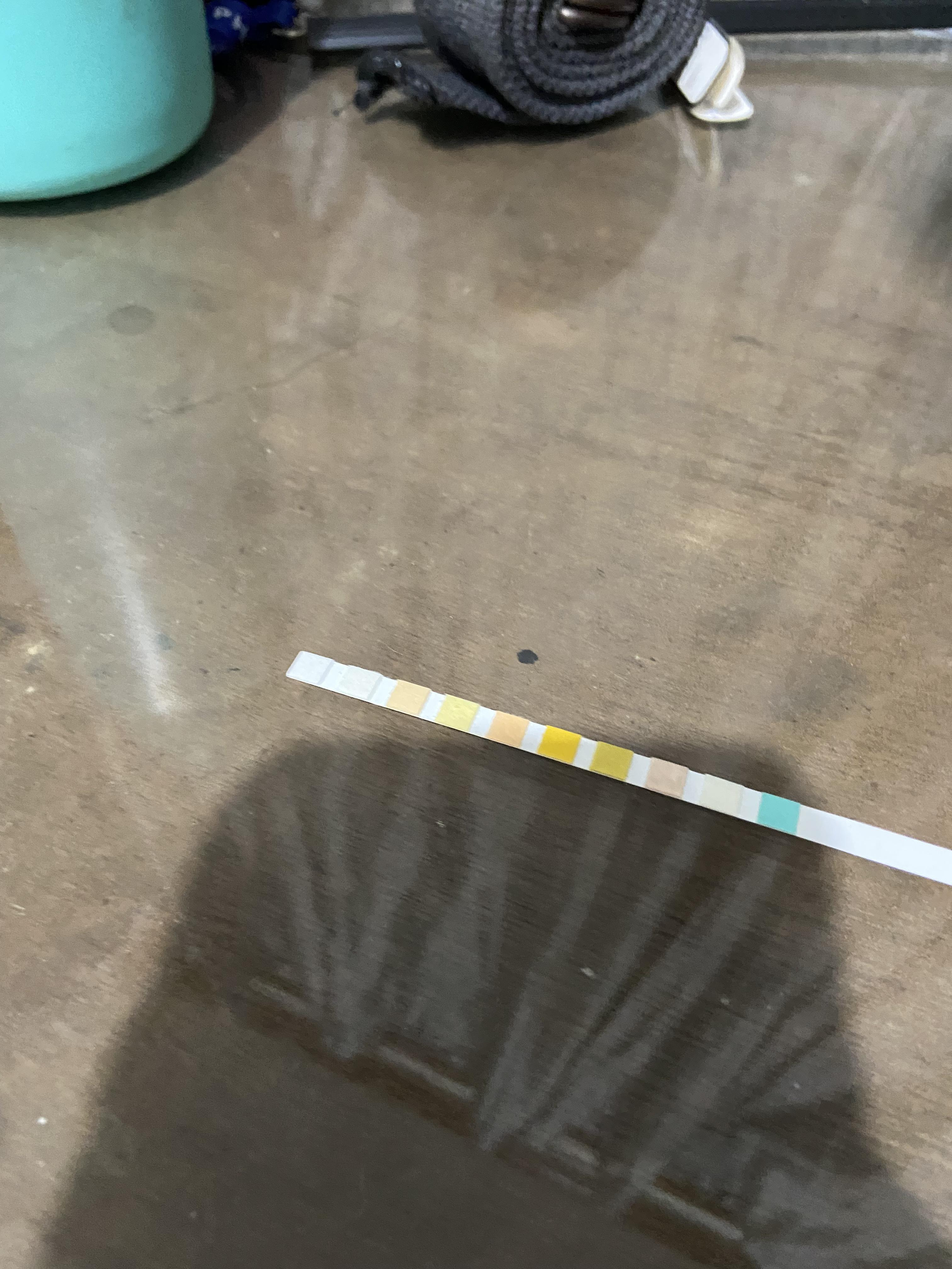Bilirubin: (706, 785, 737, 807)
Blood: (546, 736, 573, 754)
Glucose: (765, 801, 793, 824)
Ketone: (651, 768, 683, 786)
Leukocytes: (298, 662, 322, 675)
Nitrite: (347, 677, 372, 692)
Protein: (444, 707, 473, 722)
SpGravity: (596, 752, 628, 769)
Urobilinogen: (395, 690, 421, 705)
pH: (495, 722, 523, 738)
strip: (285, 652, 952, 886)
